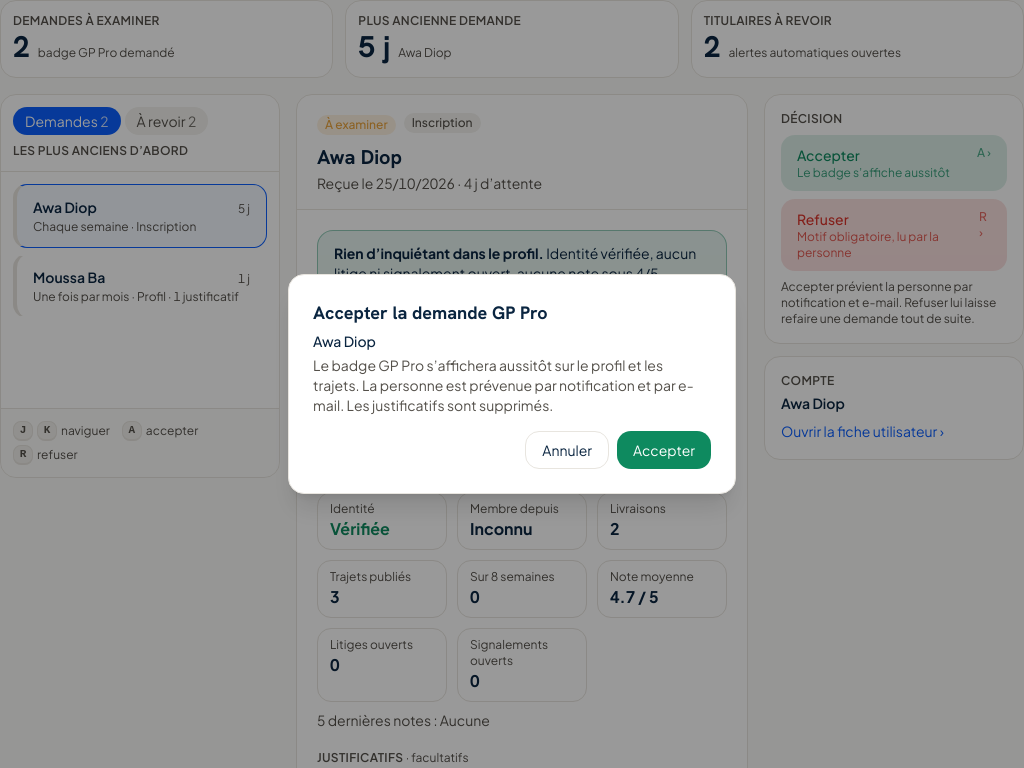
it: /gp-pro › J et K parcourent la file, A ouvre l’acceptation, R le refus
The width and height of the screenshot is (1024, 768).
Check: the button with test id "gp-pro-dialog-submit" reads "Accepter", box [617,431,711,469]
Click the button with test id "gp-pro-dialog-cancel" at [567, 450], box [525,431,609,469]
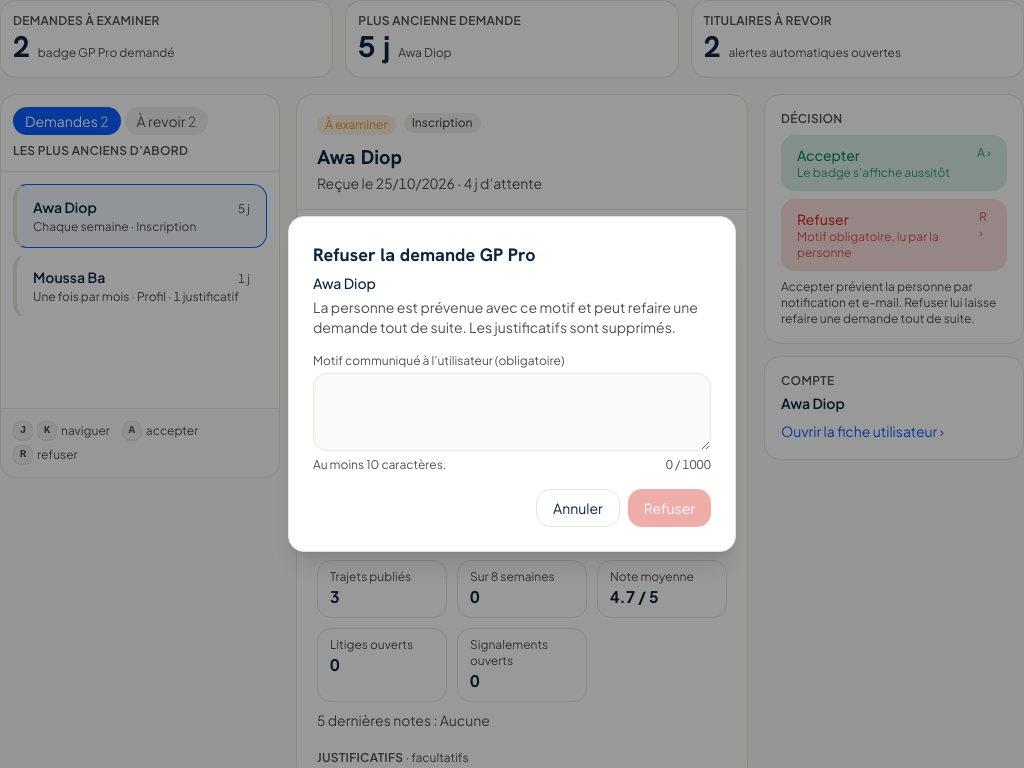
Check: the button with test id "gp-pro-dialog-submit" reads "Refuser", box [628,489,711,527]
